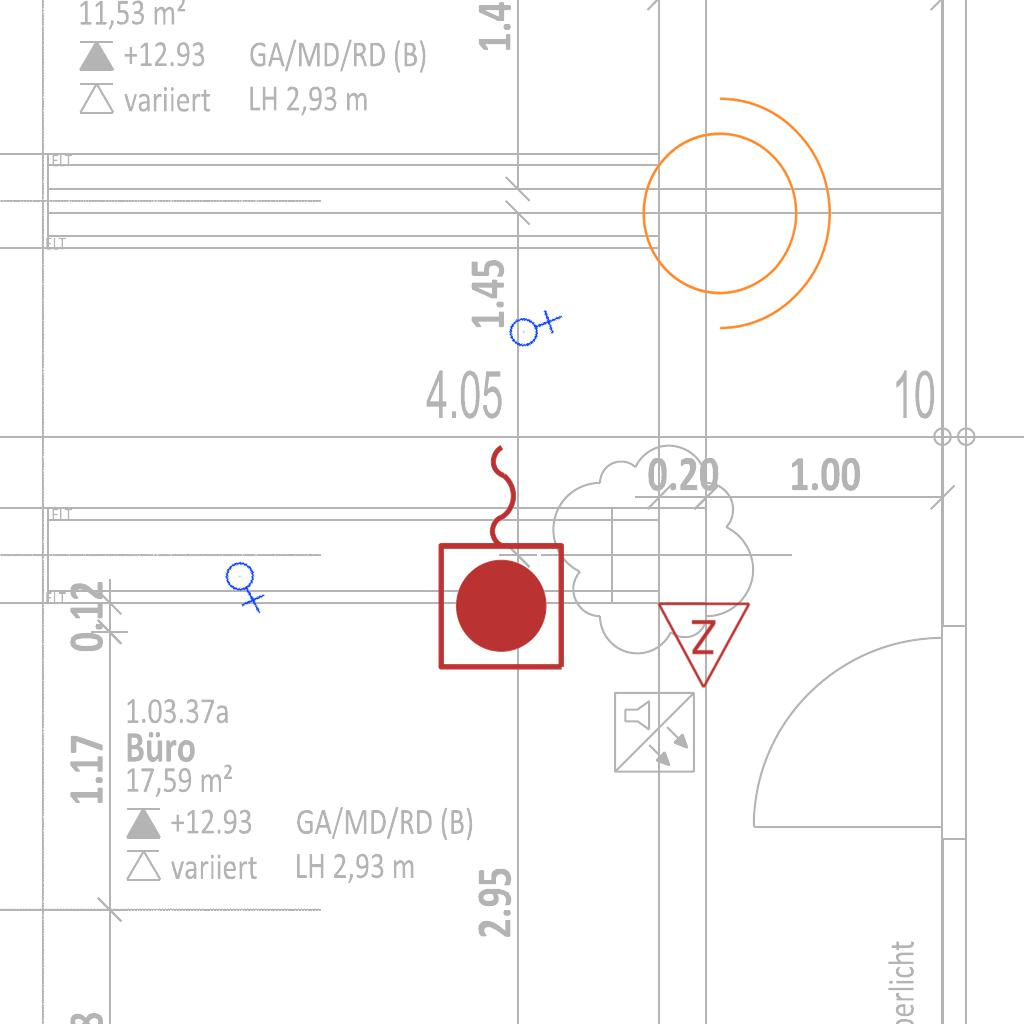Elektroanschluss_allgemein_230V_Geraeteanschlussdose_230V: (500, 295, 565, 358), (217, 554, 276, 615)
Scheinwerfer_fuer_Alarmbeleuchtung: (617, 75, 842, 339)
Zimmersignalleuchte: (656, 595, 754, 695)
Zugtaster: (431, 434, 575, 678)
